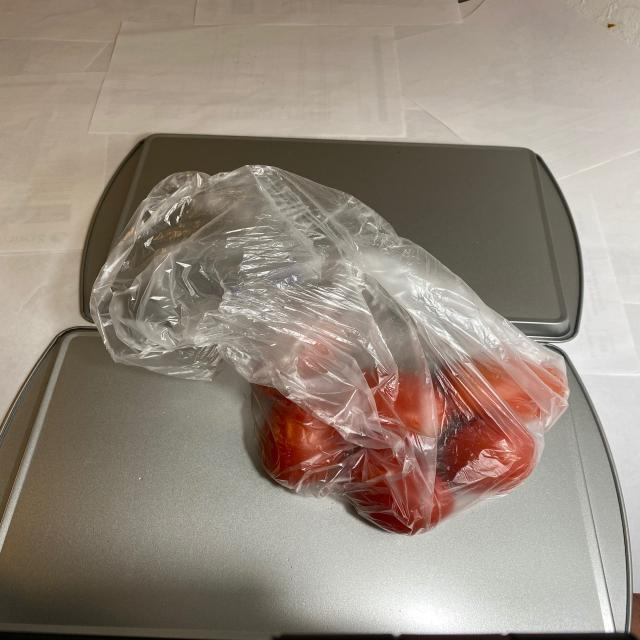tomato: (237, 326, 569, 539)
